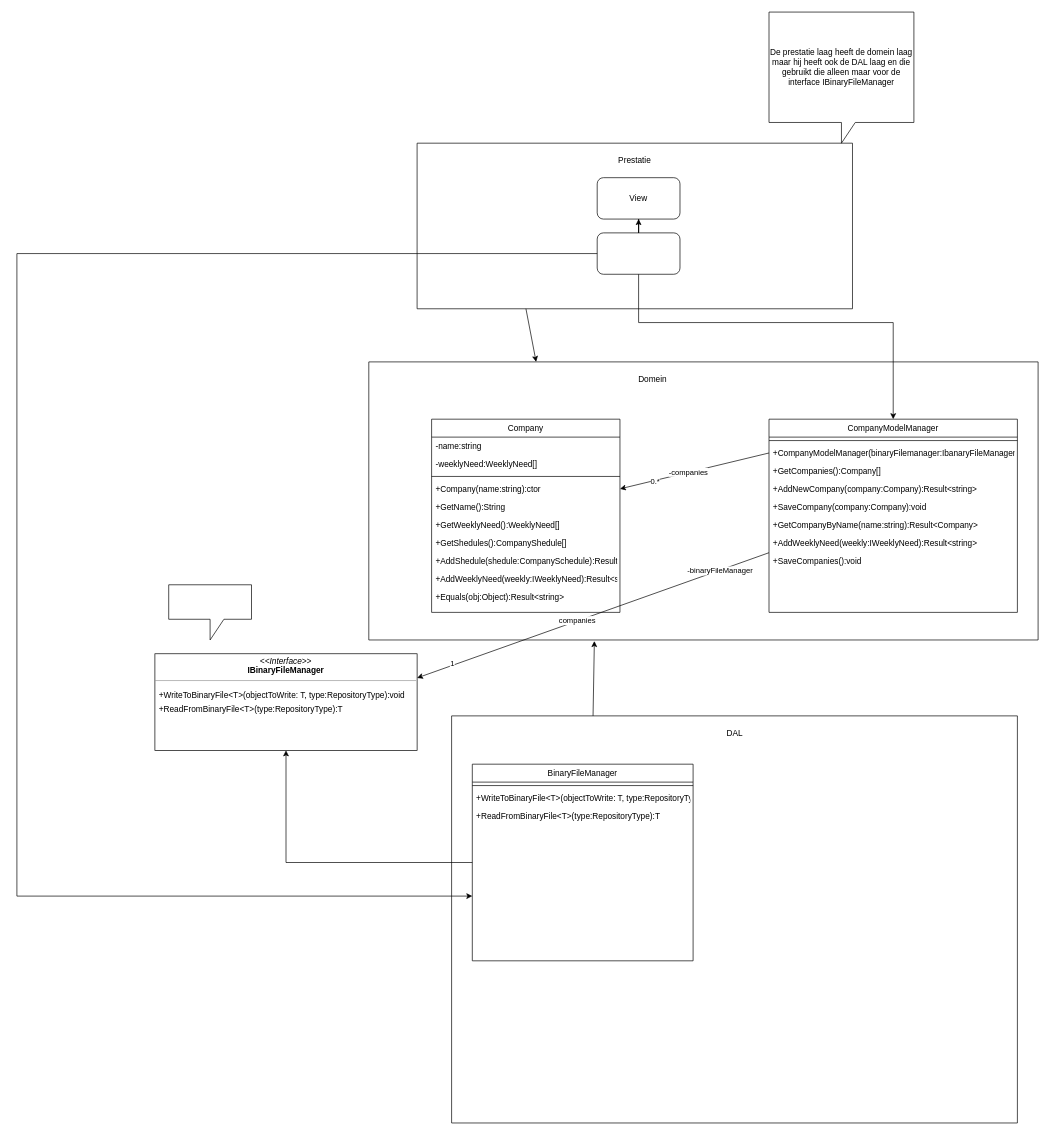
This 1050x1135 diagram has some shape labels left out. The shapes that lost their labels are listed below. From the top down, each one's centre as x and y in pixels, then its label:
[638,253]: Controller
[210,612]: Deze interface staat in de domein laag
